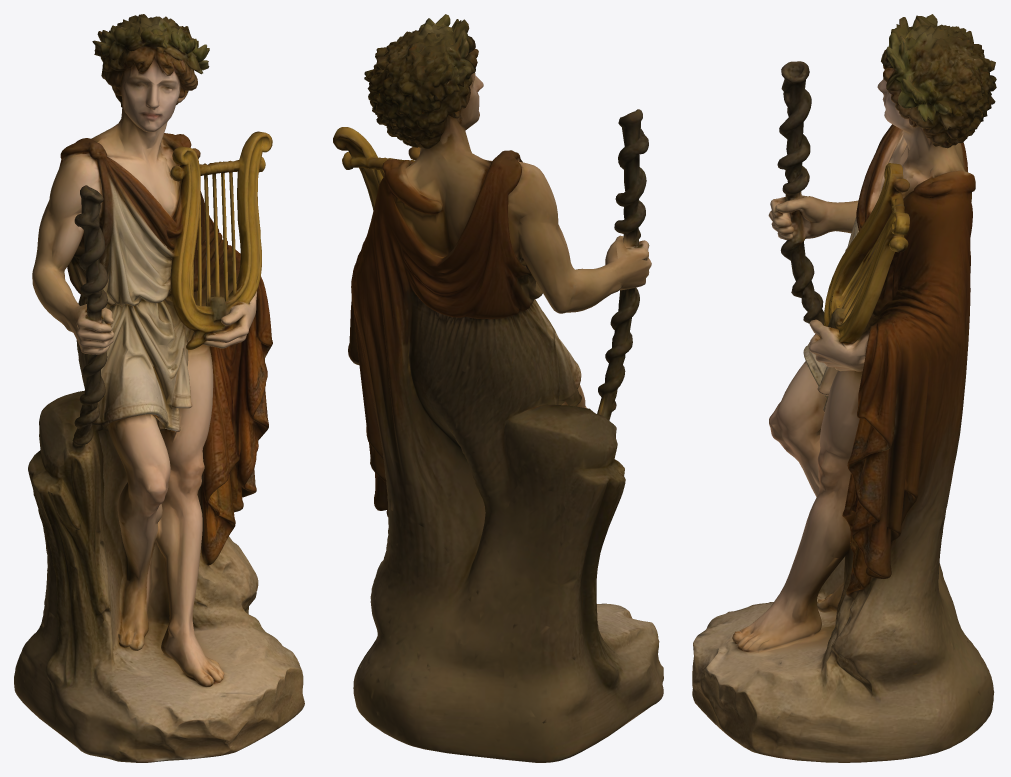
File: orpheus.glb
The picture shows the model from 3 angles, left to right: view 1: azimuth 30°, elevation 25°; view 2: azimuth 150°, elevation 25°; view 3: azimuth 270°, elevation 25°; orthographic projection. The views are drawn at different scales.
Parts seen in each view (by area): view 1: node_0; view 2: node_0; view 3: node_0.
Boxes of the visible parts, x1=… form: node_0: x1=14, y1=14, x2=304, y2=762; node_0: x1=333, y1=14, x2=663, y2=762; node_0: x1=692, y1=14, x2=996, y2=762.
Size of the model in its own units: 0.4472 by 1.1 by 0.4388.
1 material, 1 textured.
